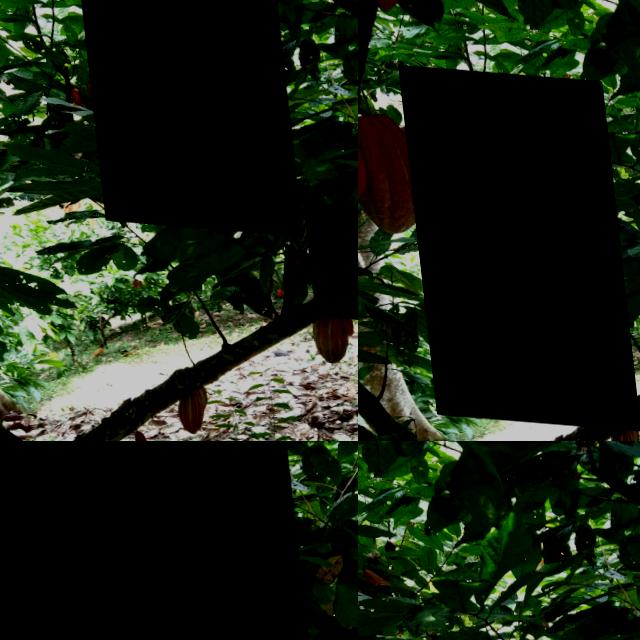Sana: (394, 62, 629, 424), (0, 441, 321, 640), (73, 0, 294, 227), (296, 194, 358, 311)
